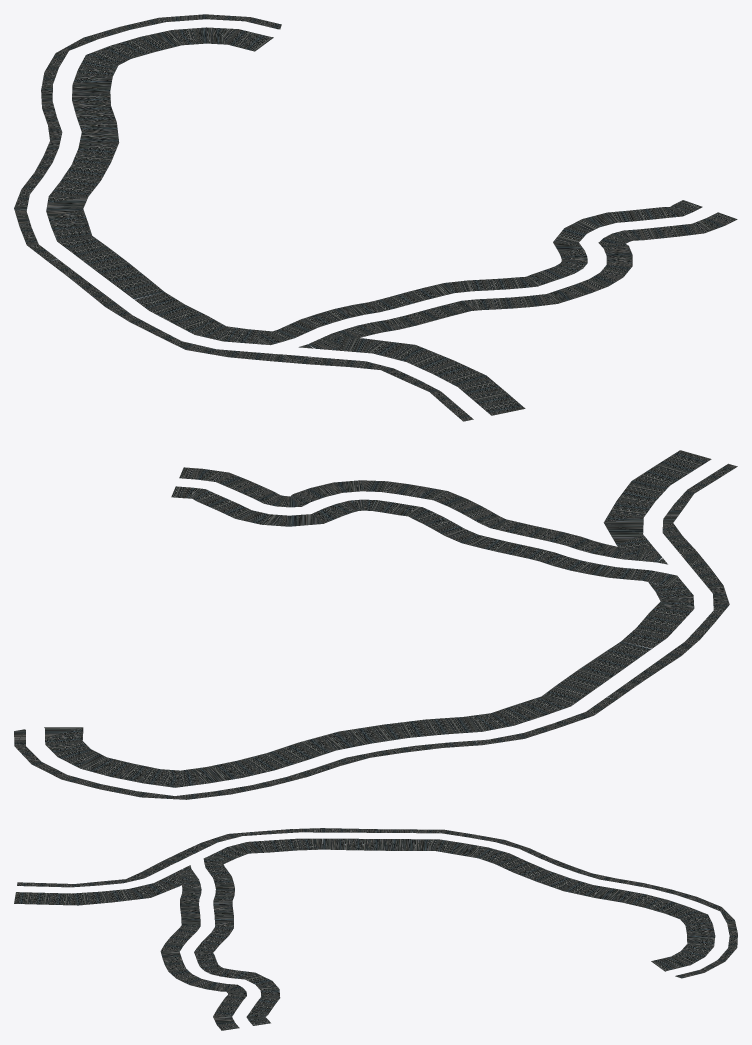
Rendered from Ground2Flat.glb.
The picture shows the model from 3 angles, top to bottom: view 1: azimuth 30°, elevation 25°; view 2: azimuth 150°, elevation 25°; view 3: azimuth 270°, elevation 25°; orthographic projection. The views are drawn at different scales.
Parts seen in each view (by area): view 1: Ground2Mesh; view 2: Ground2Mesh; view 3: Ground2Mesh.
Part boxes in pixels (x1,y1,x2,y2): Ground2Mesh: (14,14,737,421); Ground2Mesh: (14,450,737,799); Ground2Mesh: (14,828,737,1030).
Bounding box in the file's own units: 273 × 0.5176 × 412.
2 materials, 2 textured.
